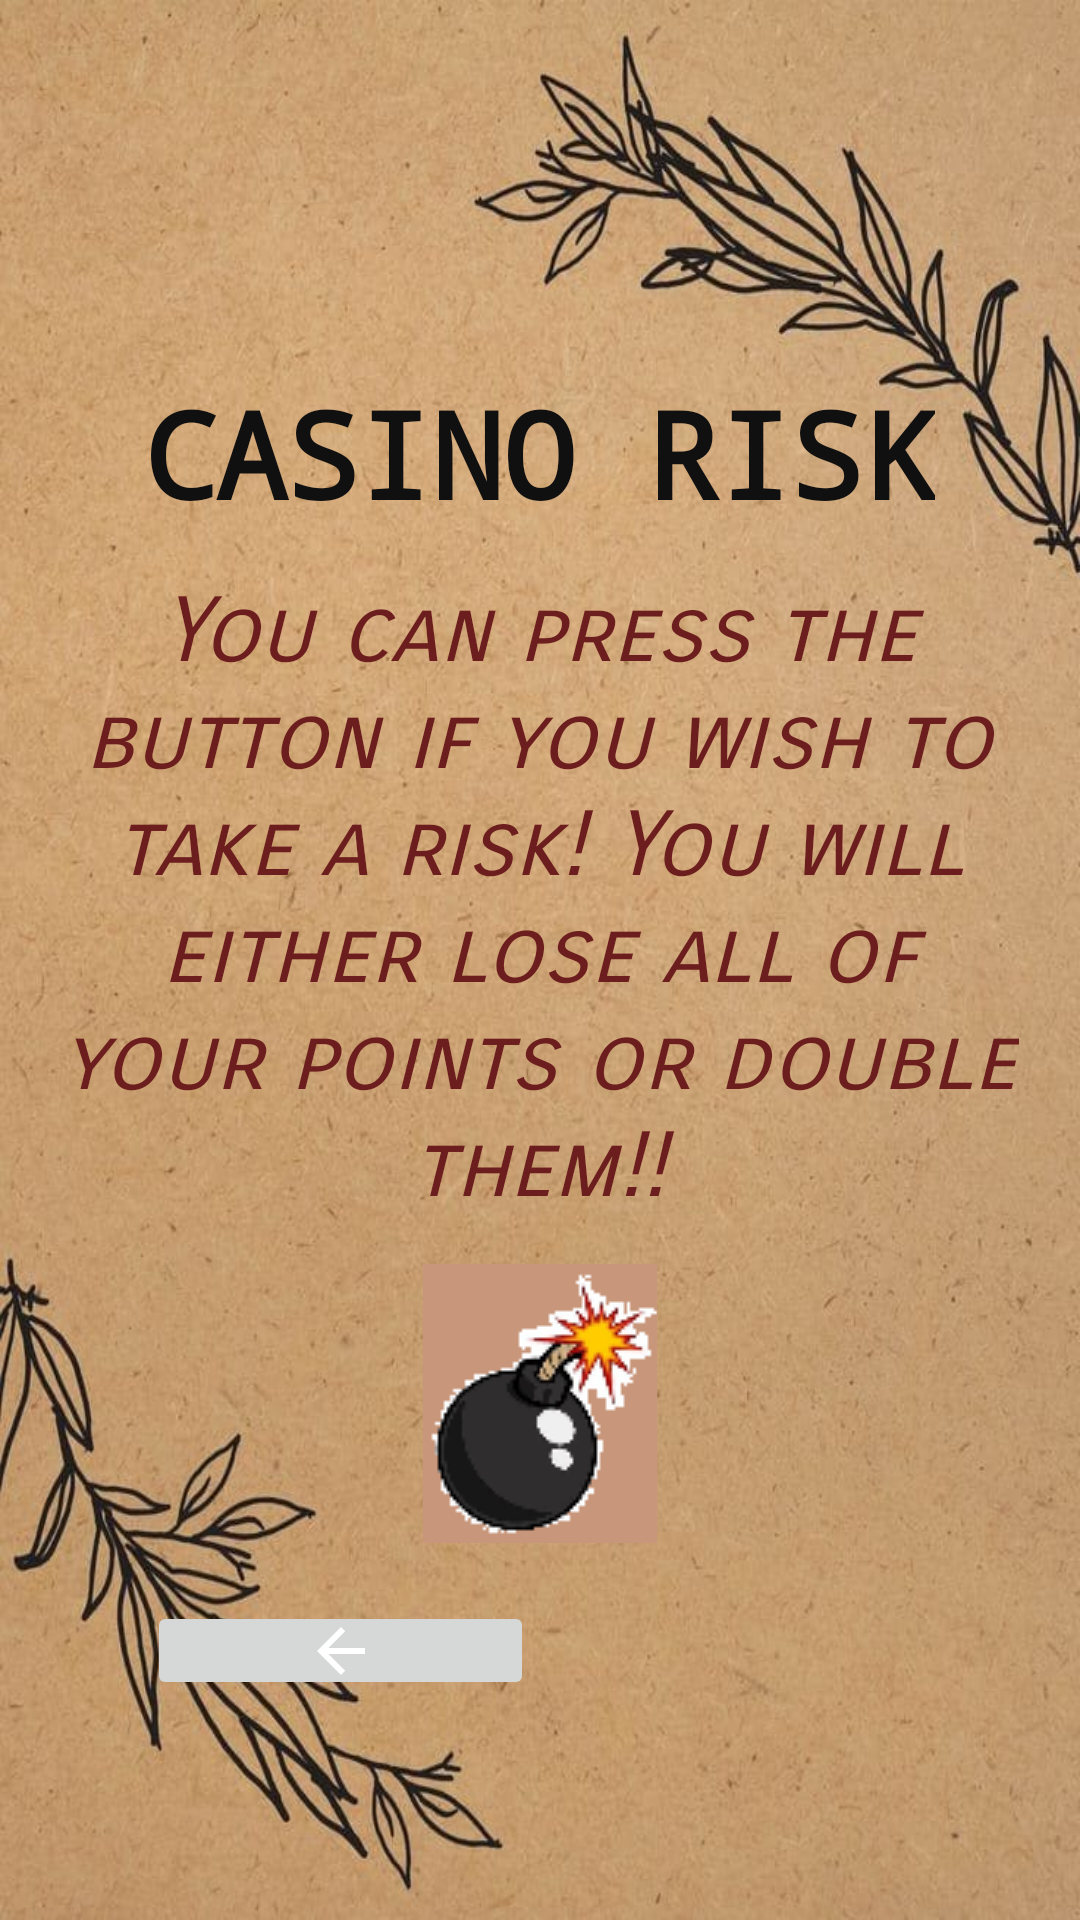

Where to tap for icons on this 1080x1920 app screen, as [x,y]:
bomb: [544,1404]
